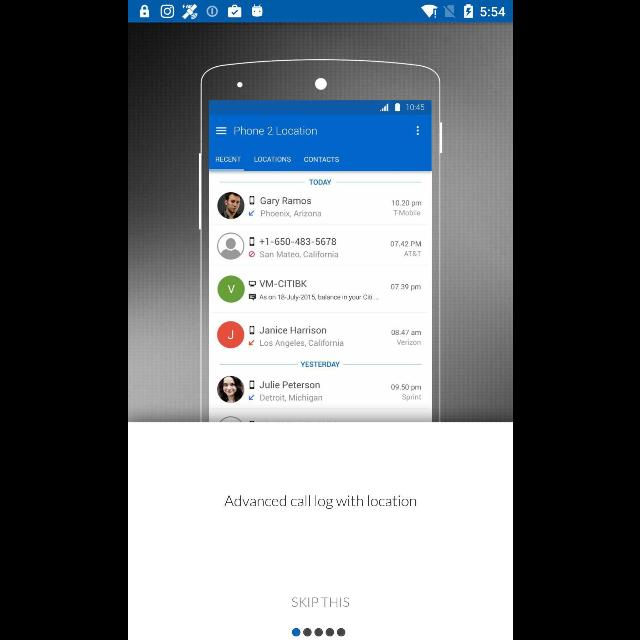image: (198, 59, 440, 420)
pageindicator: (291, 628, 345, 636)
text: (223, 495, 415, 509), (291, 597, 349, 607)
uppertaskbar: (128, 1, 512, 23)
